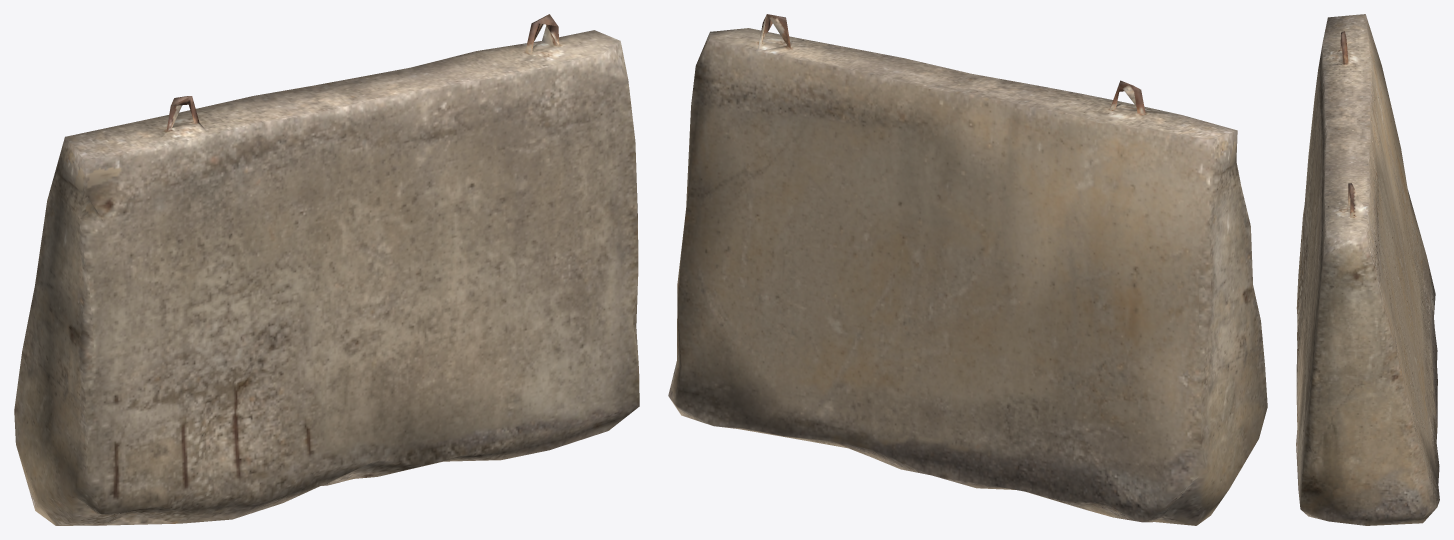
Rendered from v3_jersey_barrier.fbx.
The picture shows the model from 3 angles, left to right: view 1: azimuth 30°, elevation 25°; view 2: azimuth 150°, elevation 25°; view 3: azimuth 270°, elevation 25°; orthographic projection. The views are drawn at different scales.
Visible parts, largest first — view 1: v3_jersey_barrier_LOD0; view 2: v3_jersey_barrier_LOD0; view 3: v3_jersey_barrier_LOD0.
Part boxes in pixels (x1,y1,x2,y2): v3_jersey_barrier_LOD0: [14, 14, 639, 525]; v3_jersey_barrier_LOD0: [668, 14, 1267, 525]; v3_jersey_barrier_LOD0: [1296, 14, 1439, 525].
Size of what is drawn, in the model's own units: 1.56 by 1.1 by 0.4372.
